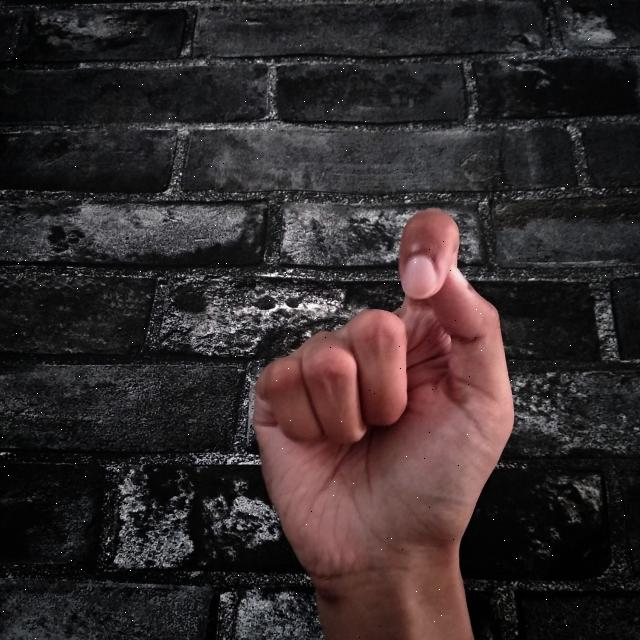T: (243, 201, 522, 640)
